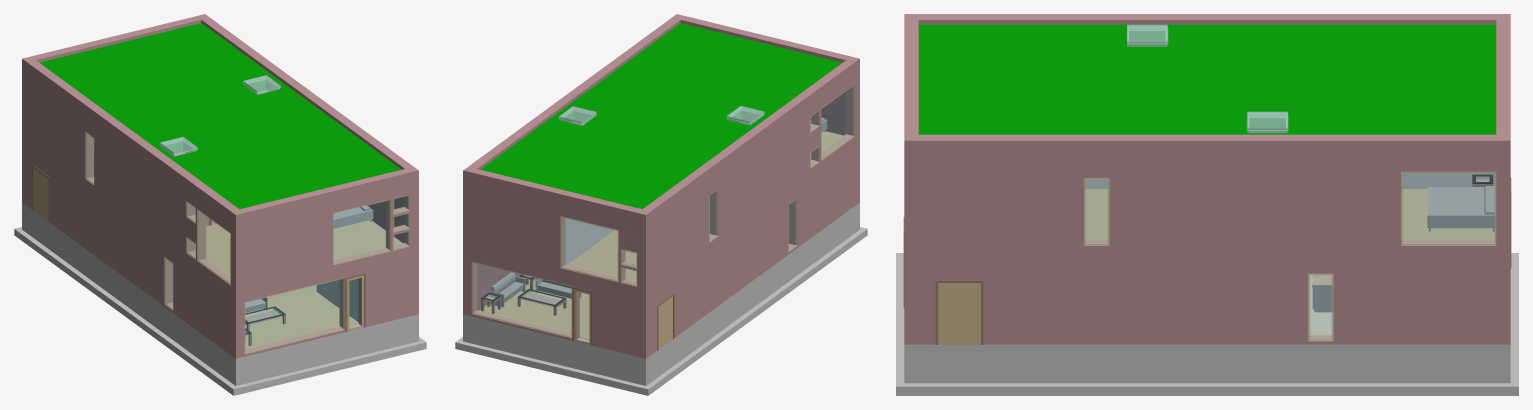
File: Duplex.ifc.ifc2gltf.glb
The picture shows the model from 3 angles, left to right: view 1: azimuth 30°, elevation 25°; view 2: azimuth 150°, elevation 25°; view 3: azimuth 270°, elevation 25°; orthographic projection. The views are drawn at different scales.
Visible parts, largest first — view 1: 09g7Eo3WDEihdnsYS1YDoI, 2O2Fr$t4X7Zf8NOew3FNhv, 2O2Fr$t4X7Zf8NOew3FLPP, 2O2Fr$t4X7Zf8NOew3FLOH, 2O2Fr$t4X7Zf8NOew3FNr2, 2O2Fr$t4X7Zf8NOew3FKE5, 2O2Fr$t4X7Zf8NOew3FKEr, 0jf0rYHfX3RAB3bSIRjmr1, 2OBrcmyk58NupXoVOHUtxr, 0jf0rYHfX3RAB3bSIRjmoa, 0jf0rYHfX3RAB3bSIRjmpw, 0kF45Qs8L9PAM9kmb1lT5t (+18 smaller); view 2: 09g7Eo3WDEihdnsYS1YDoI, 2O2Fr$t4X7Zf8NOew3FNhv, 2O2Fr$t4X7Zf8NOew3FLPP, 2O2Fr$t4X7Zf8NOew3FLQD, 2O2Fr$t4X7Zf8NOew3FNtn, 2O2Fr$t4X7Zf8NOew3FKE5, 2O2Fr$t4X7Zf8NOew3FK80, 0jf0rYHfX3RAB3bSIRjmr1, 0jf0rYHfX3RAB3bSIRjmmy, 0kF45Qs8L9PAM9kmb1lT5t, 0jf0rYHfX3RAB3bSIRjmpw, 2OBrcmyk58NupXoVOHUtgP (+18 smaller); view 3: 09g7Eo3WDEihdnsYS1YDoI, 2O2Fr$t4X7Zf8NOew3FNqI, 2O2Fr$t4X7Zf8NOew3FLR9, 2O2Fr$t4X7Zf8NOew3FK9N, 0jf0rYHfX3RAB3bSIRjmpw, 0kF45Qs8L9PAM9kmb1lT5d, 0jf0rYHfX3RAB3bSIRjmr1, 1hOSvn6df7F8_7GcBWlRGQ, 2OBrcmyk58NupXoVOHUtI8, 0jf0rYHfX3RAB3bSIRjmmy, 2OBrcmyk58NupXoVOHUtDX, 0jf0rYHfX3RAB3bSIRjmoa (+13 smaller).
Boxes of the visible parts, x1,y1,x2,y2 form: 09g7Eo3WDEihdnsYS1YDoI: (39,23,401,209); 2O2Fr$t4X7Zf8NOew3FNhv: (27,139,230,354); 2O2Fr$t4X7Zf8NOew3FLPP: (22,72,235,291); 2O2Fr$t4X7Zf8NOew3FLOH: (236,183,418,291); 2O2Fr$t4X7Zf8NOew3FNr2: (231,249,410,358); 2O2Fr$t4X7Zf8NOew3FKE5: (27,206,230,382); 2O2Fr$t4X7Zf8NOew3FKEr: (231,316,410,385); 0jf0rYHfX3RAB3bSIRjmr1: (27,60,238,224); 2OBrcmyk58NupXoVOHUtxr: (245,285,358,348); 0jf0rYHfX3RAB3bSIRjmoa: (231,169,410,228); 0jf0rYHfX3RAB3bSIRjmpw: (201,17,418,185); 0kF45Qs8L9PAM9kmb1lT5t: (14,227,227,387); 09g7Eo3WDEihdnsYS1YDoI: (480,23,842,209); 2O2Fr$t4X7Zf8NOew3FNhv: (651,139,854,354); 2O2Fr$t4X7Zf8NOew3FLPP: (646,72,859,291); 2O2Fr$t4X7Zf8NOew3FLQD: (463,183,645,291); 2O2Fr$t4X7Zf8NOew3FNtn: (463,247,650,358); 2O2Fr$t4X7Zf8NOew3FKE5: (651,206,854,382); 2O2Fr$t4X7Zf8NOew3FK80: (463,314,650,385); 0jf0rYHfX3RAB3bSIRjmr1: (643,60,854,224); 0jf0rYHfX3RAB3bSIRjmmy: (463,167,650,228); 0kF45Qs8L9PAM9kmb1lT5t: (629,235,856,395); 0jf0rYHfX3RAB3bSIRjmpw: (468,14,684,169); 2OBrcmyk58NupXoVOHUtgP: (479,279,589,339); 09g7Eo3WDEihdnsYS1YDoI: (918,24,1496,134); 2O2Fr$t4X7Zf8NOew3FNqI: (904,249,1496,344); 2O2Fr$t4X7Zf8NOew3FLR9: (904,159,1510,248); 2O2Fr$t4X7Zf8NOew3FK9N: (904,344,1496,383); 0jf0rYHfX3RAB3bSIRjmpw: (904,134,1496,159); 0kF45Qs8L9PAM9kmb1lT5d: (896,373,1518,395); 0jf0rYHfX3RAB3bSIRjmr1: (918,14,1496,24); 1hOSvn6df7F8_7GcBWlRGQ: (935,280,983,344); 2OBrcmyk58NupXoVOHUtI8: (1427,186,1495,231); 0jf0rYHfX3RAB3bSIRjmmy: (1496,14,1510,159); 2OBrcmyk58NupXoVOHUtDX: (1401,189,1495,239); 0jf0rYHfX3RAB3bSIRjmoa: (904,14,918,134).
Size of the model in its own units: 9.28 by 8.18 by 18.28.
